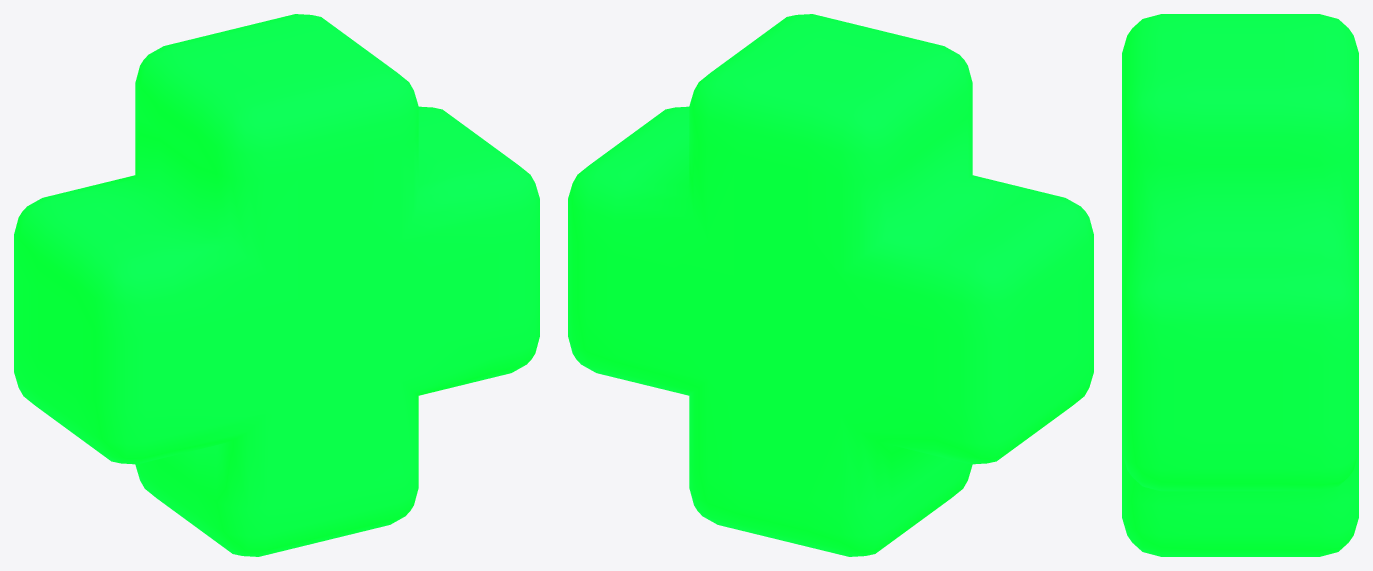
Rendered from Pickup_Health.fbx.
3 views of the same model, side by side, from view 1: azimuth 30°, elevation 25°; view 2: azimuth 150°, elevation 25°; view 3: azimuth 270°, elevation 25° (orthographic). The views are drawn at different scales.
Parts seen in each view (by area): view 1: Pickup_Health; view 2: Pickup_Health; view 3: Pickup_Health.
Boxes of the visible parts, <box> form: Pickup_Health: <box>14,14,539,556</box>; Pickup_Health: <box>568,14,1093,556</box>; Pickup_Health: <box>1122,14,1358,556</box>.
Bounding box in the file's own units: 158 × 155 × 70.83.
